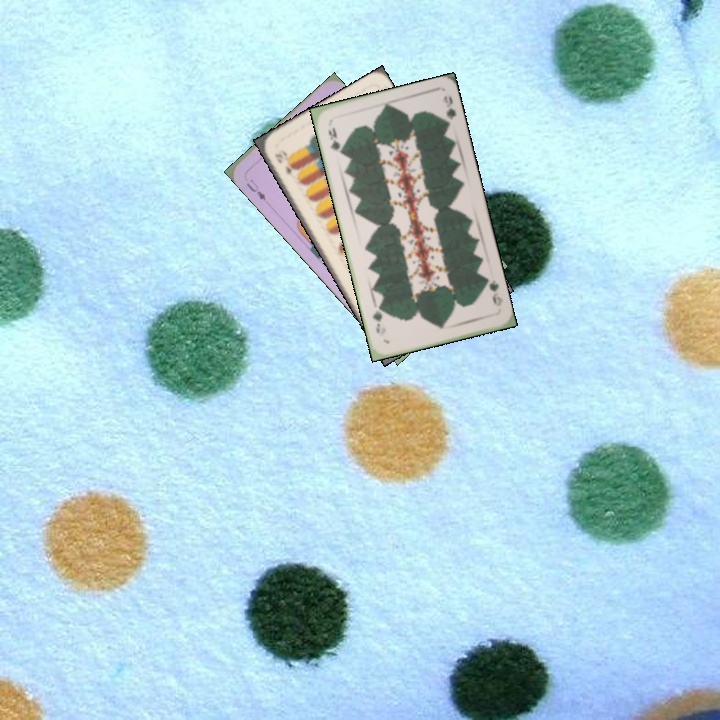E10: (271, 146, 297, 181)
EU: (242, 175, 269, 203)
G9: (481, 274, 505, 309), (324, 123, 345, 157)
